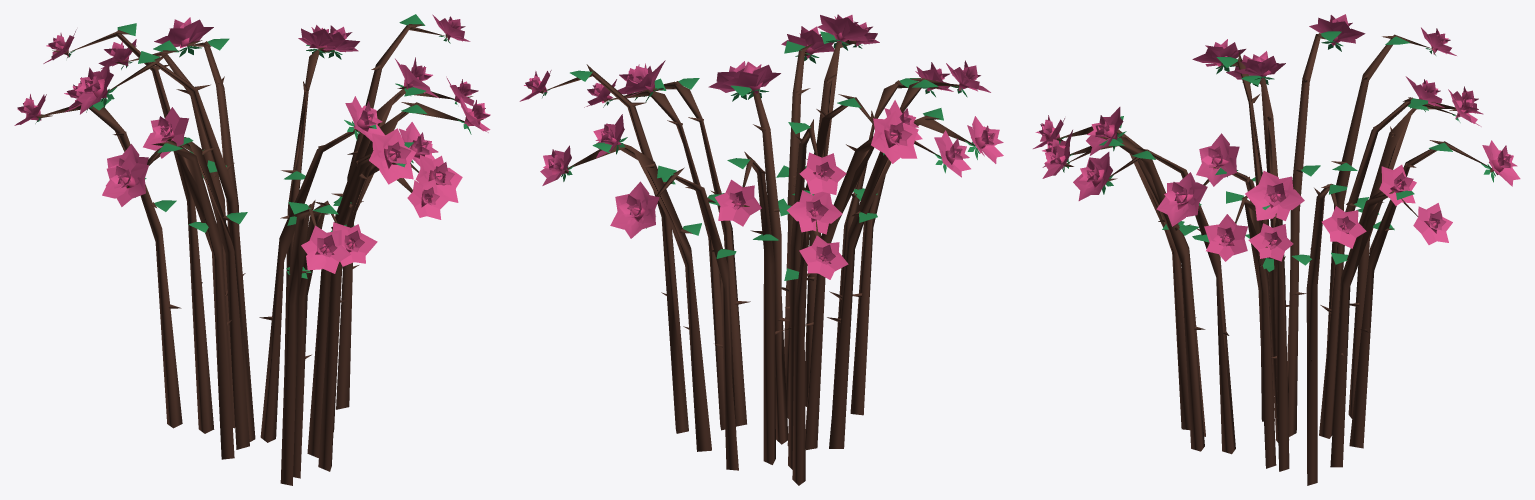
The model's file is flora_rose_thorn_brake.gltf.
3 renders of one model, left to right at view 1: azimuth 30°, elevation 25°; view 2: azimuth 150°, elevation 25°; view 3: azimuth 270°, elevation 25°, orthographic. The views are drawn at different scales.
Visible parts, largest first — view 1: flora_rose_thorn_brake; view 2: flora_rose_thorn_brake; view 3: flora_rose_thorn_brake.
Part boxes in pixels (x1,y1,x2,y2): flora_rose_thorn_brake: (14,14,490,485); flora_rose_thorn_brake: (519,14,1003,485); flora_rose_thorn_brake: (1033,14,1520,485).
Size of what is drawn, in the model's own units: 4.83 by 4.25 by 5.12.
